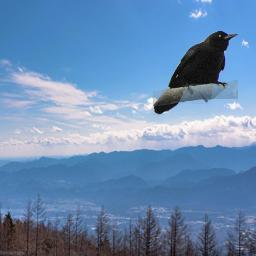Crow: (153, 31, 238, 115)
